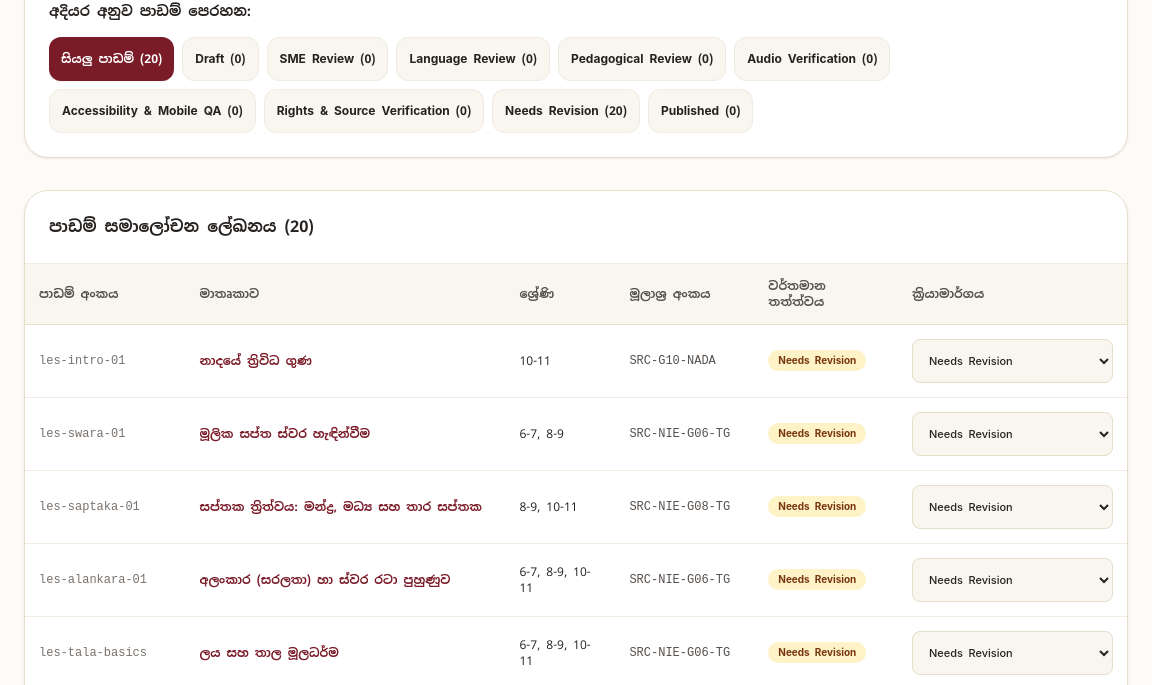
Test: Admin review status feedback › reports a rejected CMS mutation as an error instead of success
(page scrolled)
Select "Published" in the dropdown named "තත්ත්වය වෙනස් කරන්න" in the row of "les-intro-01" at (1012, 361), box [912,339,1113,383]
(page scrolled)
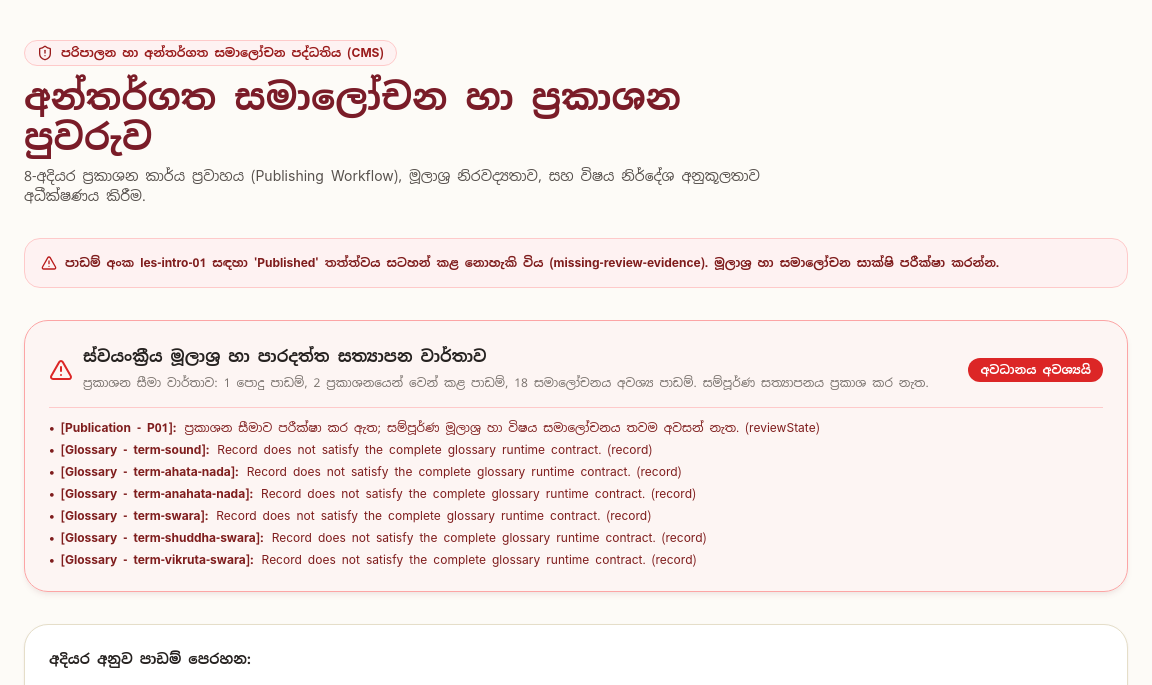
Expected: the message does not show "සමාලෝචන පාරදත්ත", [24,238,1128,288]
Now the message shows "සටහන් කළ නොහැකි විය", box [65,255,999,271]
